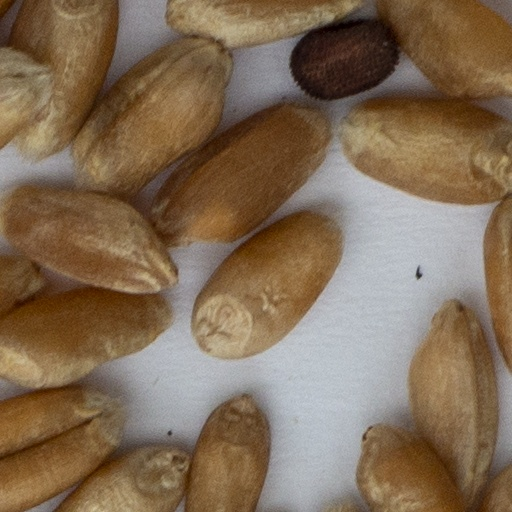Agrostemma-poly: (292, 20, 396, 98)
